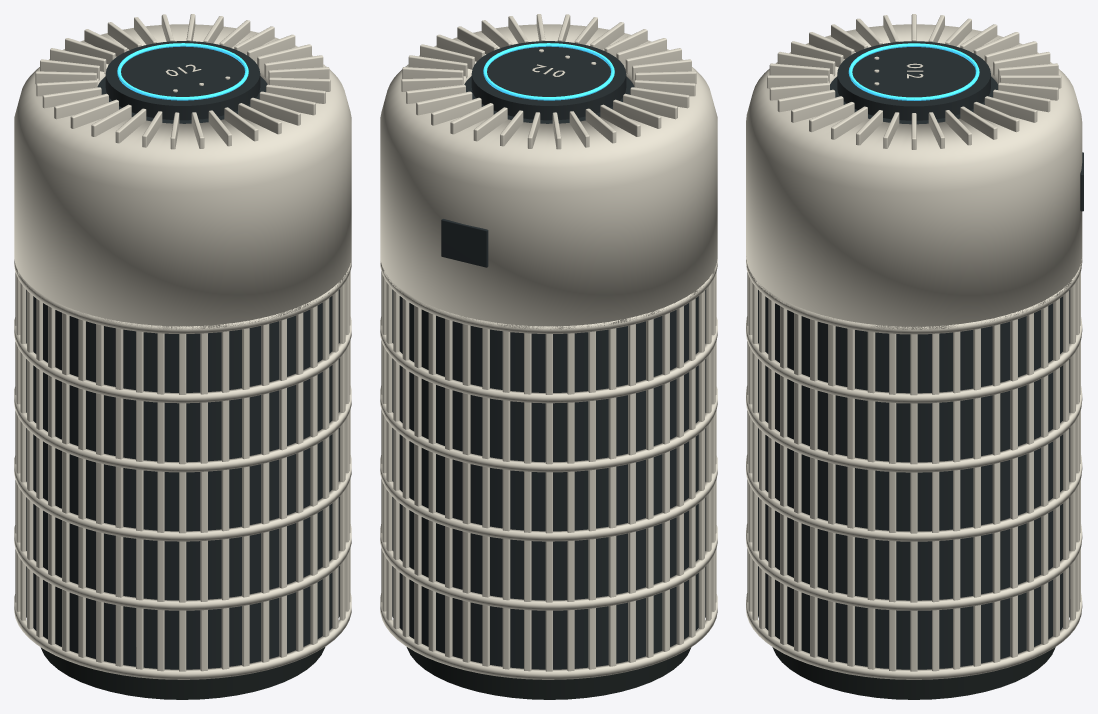
Rendered from utility-air-purifier.glb.
3 views of the same model, side by side, from view 1: azimuth 30°, elevation 25°; view 2: azimuth 150°, elevation 25°; view 3: azimuth 270°, elevation 25° (orthographic).
Parts seen in each view (by area): view 1: utility-air-purifier authored assembly; view 2: utility-air-purifier authored assembly; view 3: utility-air-purifier authored assembly.
Part boxes in pixels (box(x1,y1,x2,y2)): utility-air-purifier authored assembly: box(14, 14, 351, 699); utility-air-purifier authored assembly: box(380, 14, 717, 699); utility-air-purifier authored assembly: box(746, 14, 1083, 699).
Bounding box in the file's own units: 0.28 × 0.52 × 0.28.
